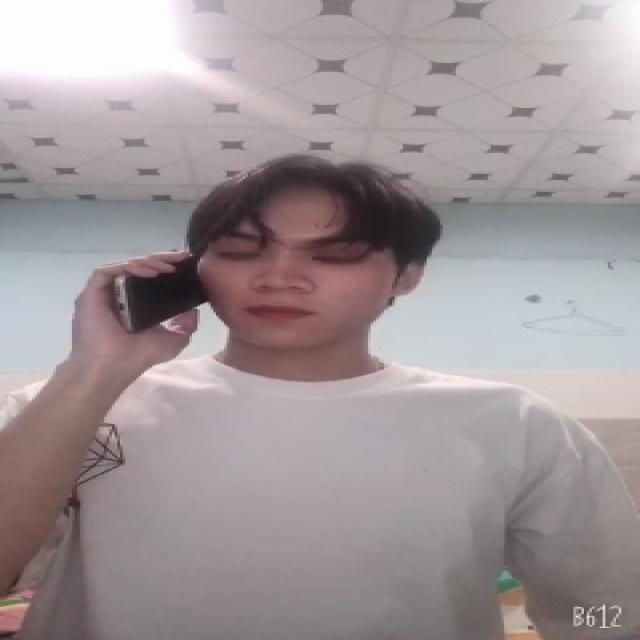Phone: (113, 255, 216, 335)
